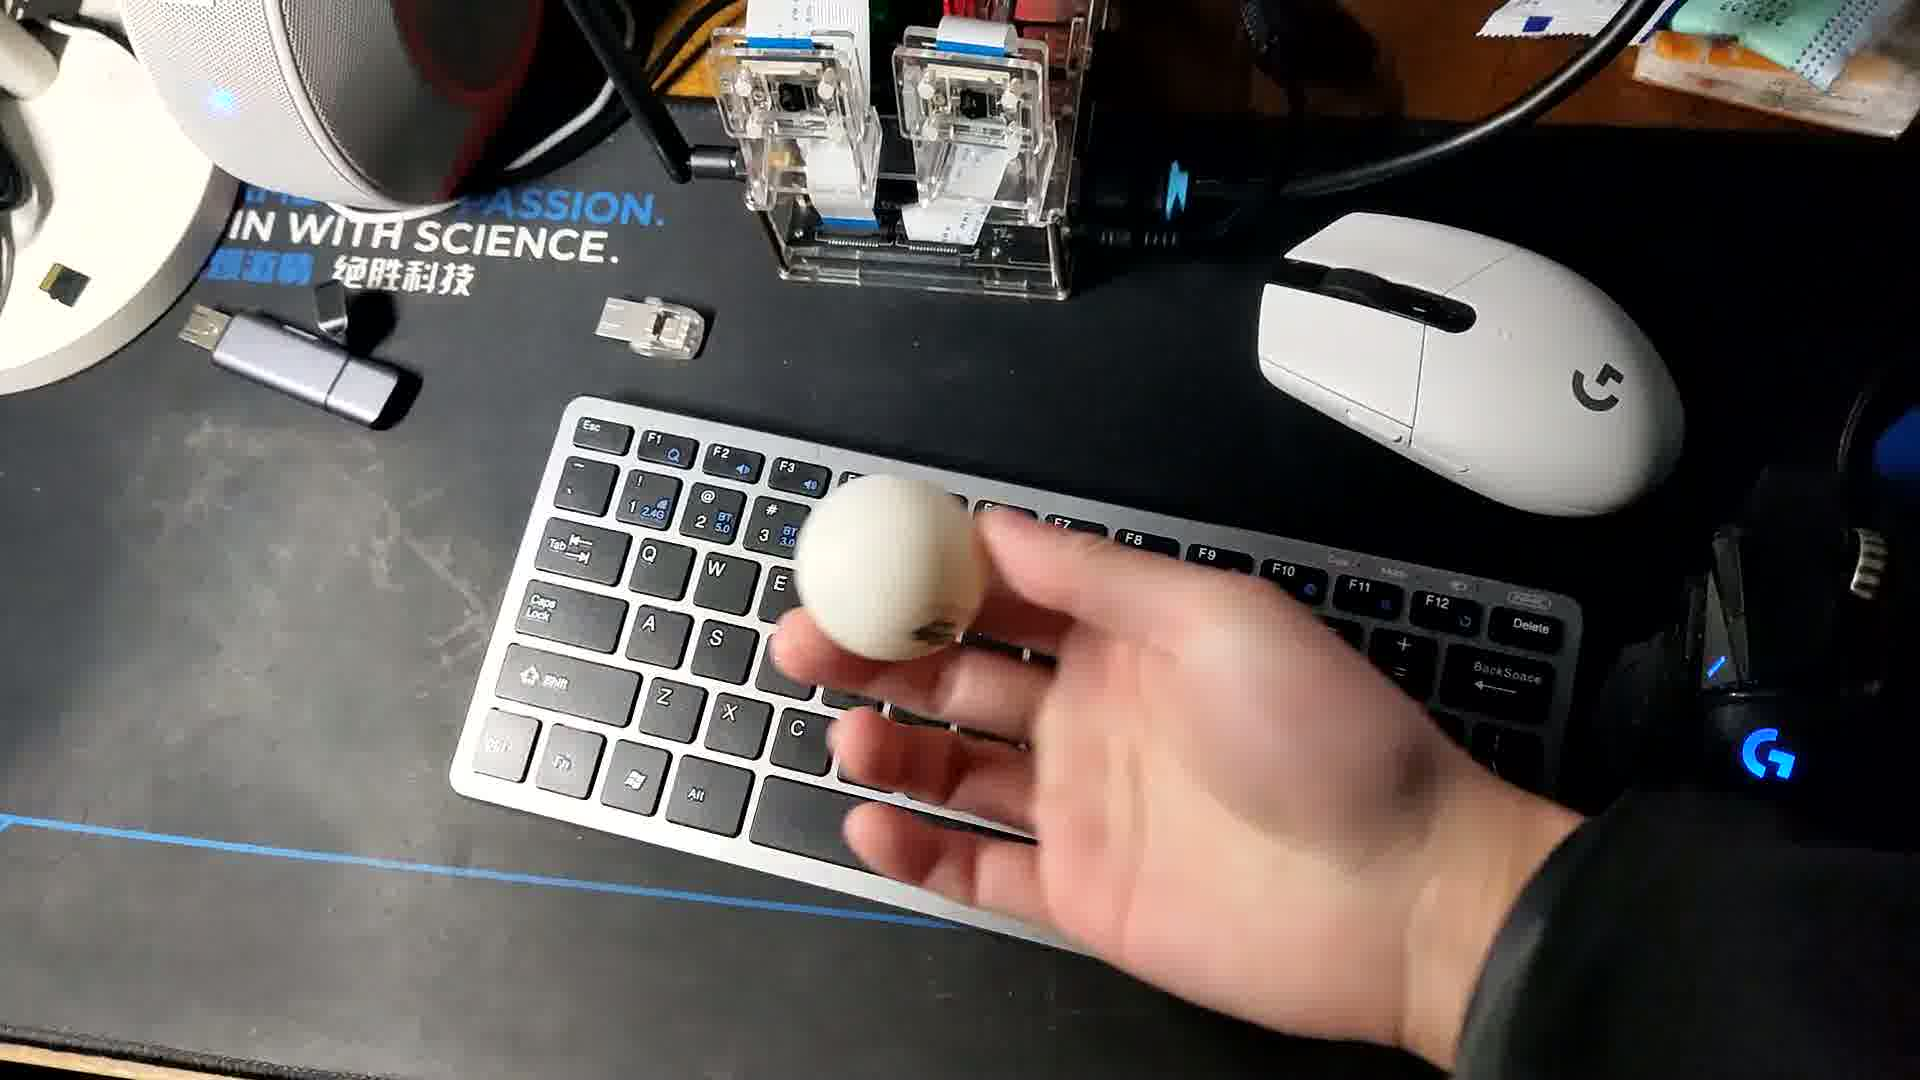Ball: (796, 471, 988, 665)
